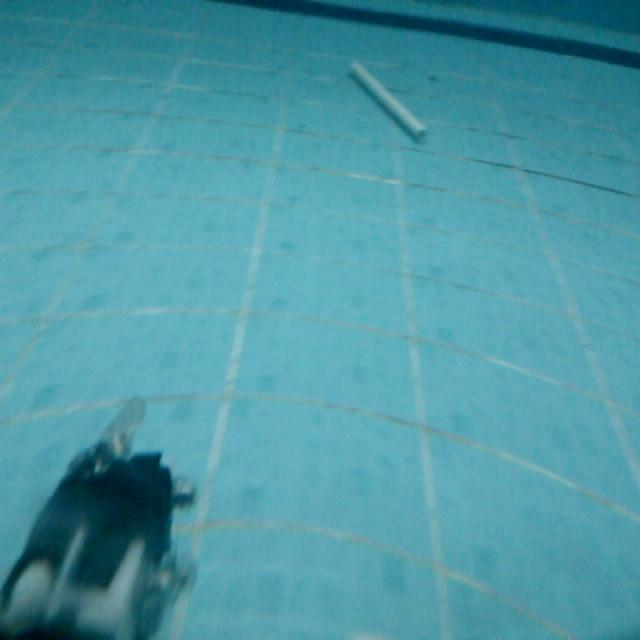Cube: (349, 58, 433, 148)
